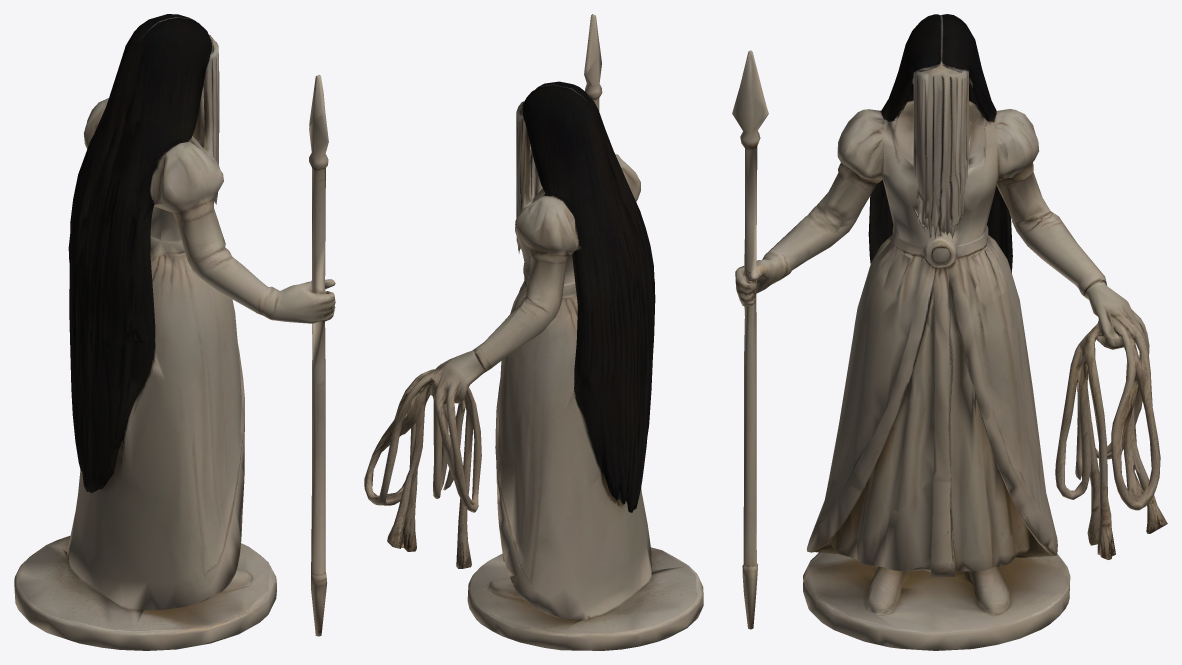
3 renders of one model, left to right at view 1: azimuth 30°, elevation 25°; view 2: azimuth 150°, elevation 25°; view 3: azimuth 270°, elevation 25°, orthographic. The views are drawn at different scales.
Parts seen in each view (by area): view 1: tripo_node_471b8962-bd85-4ccf-a187-ff24158c1e15; view 2: tripo_node_471b8962-bd85-4ccf-a187-ff24158c1e15; view 3: tripo_node_471b8962-bd85-4ccf-a187-ff24158c1e15.
Part boxes in pixels (box(x1,y1,x2,y2)): tripo_node_471b8962-bd85-4ccf-a187-ff24158c1e15: box(14, 14, 335, 650); tripo_node_471b8962-bd85-4ccf-a187-ff24158c1e15: box(364, 14, 703, 650); tripo_node_471b8962-bd85-4ccf-a187-ff24158c1e15: box(732, 14, 1167, 650).
Bounding box in the file's own units: 0.4903 × 0.9996 × 0.6682.
1 material, 1 textured.
